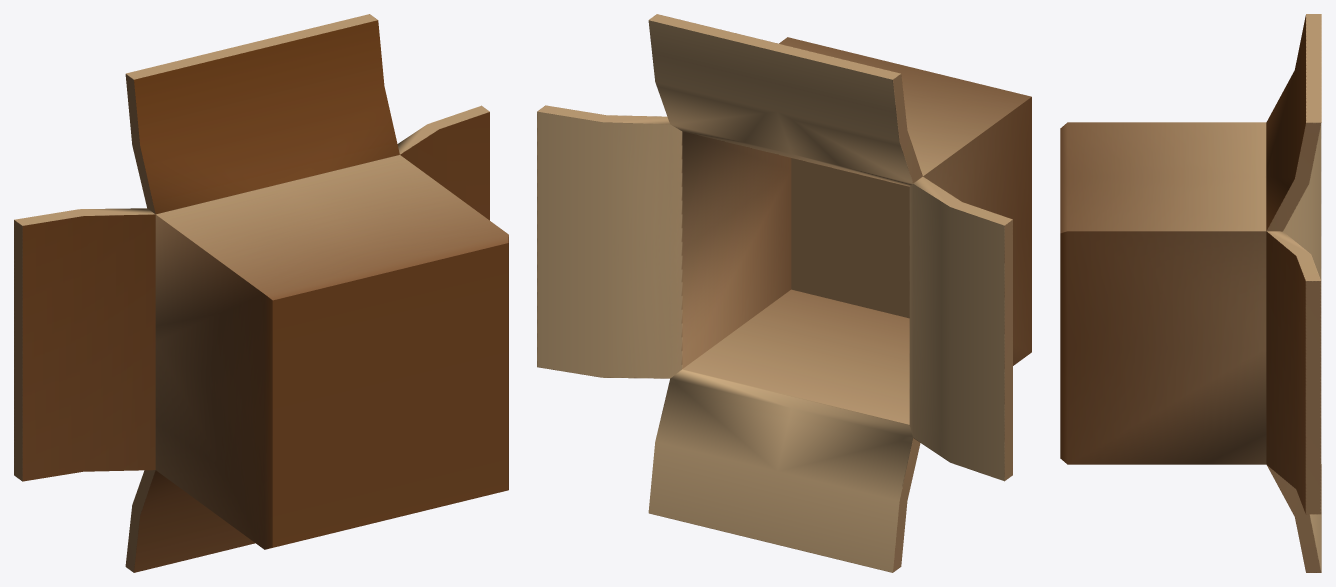
File: PaperBox.FBX
The picture shows the model from 3 angles, left to right: view 1: azimuth 30°, elevation 25°; view 2: azimuth 150°, elevation 25°; view 3: azimuth 270°, elevation 25°; orthographic projection. The views are drawn at different scales.
Visible parts, largest first — view 1: PaperBox; view 2: PaperBox; view 3: PaperBox.
Part boxes in pixels (x1,y1,x2,y2): PaperBox: (14, 14, 508, 572); PaperBox: (537, 14, 1031, 572); PaperBox: (1060, 14, 1321, 572).
Bounding box in the file's own units: 47.85 × 48.23 × 25.34.
1 material, 1 textured.
